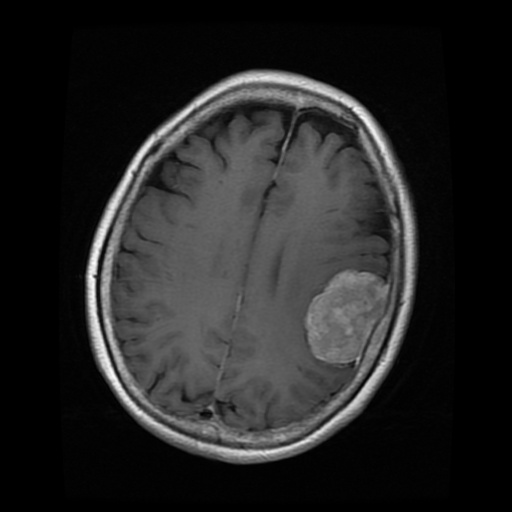meningioma: (306, 268, 388, 363)
